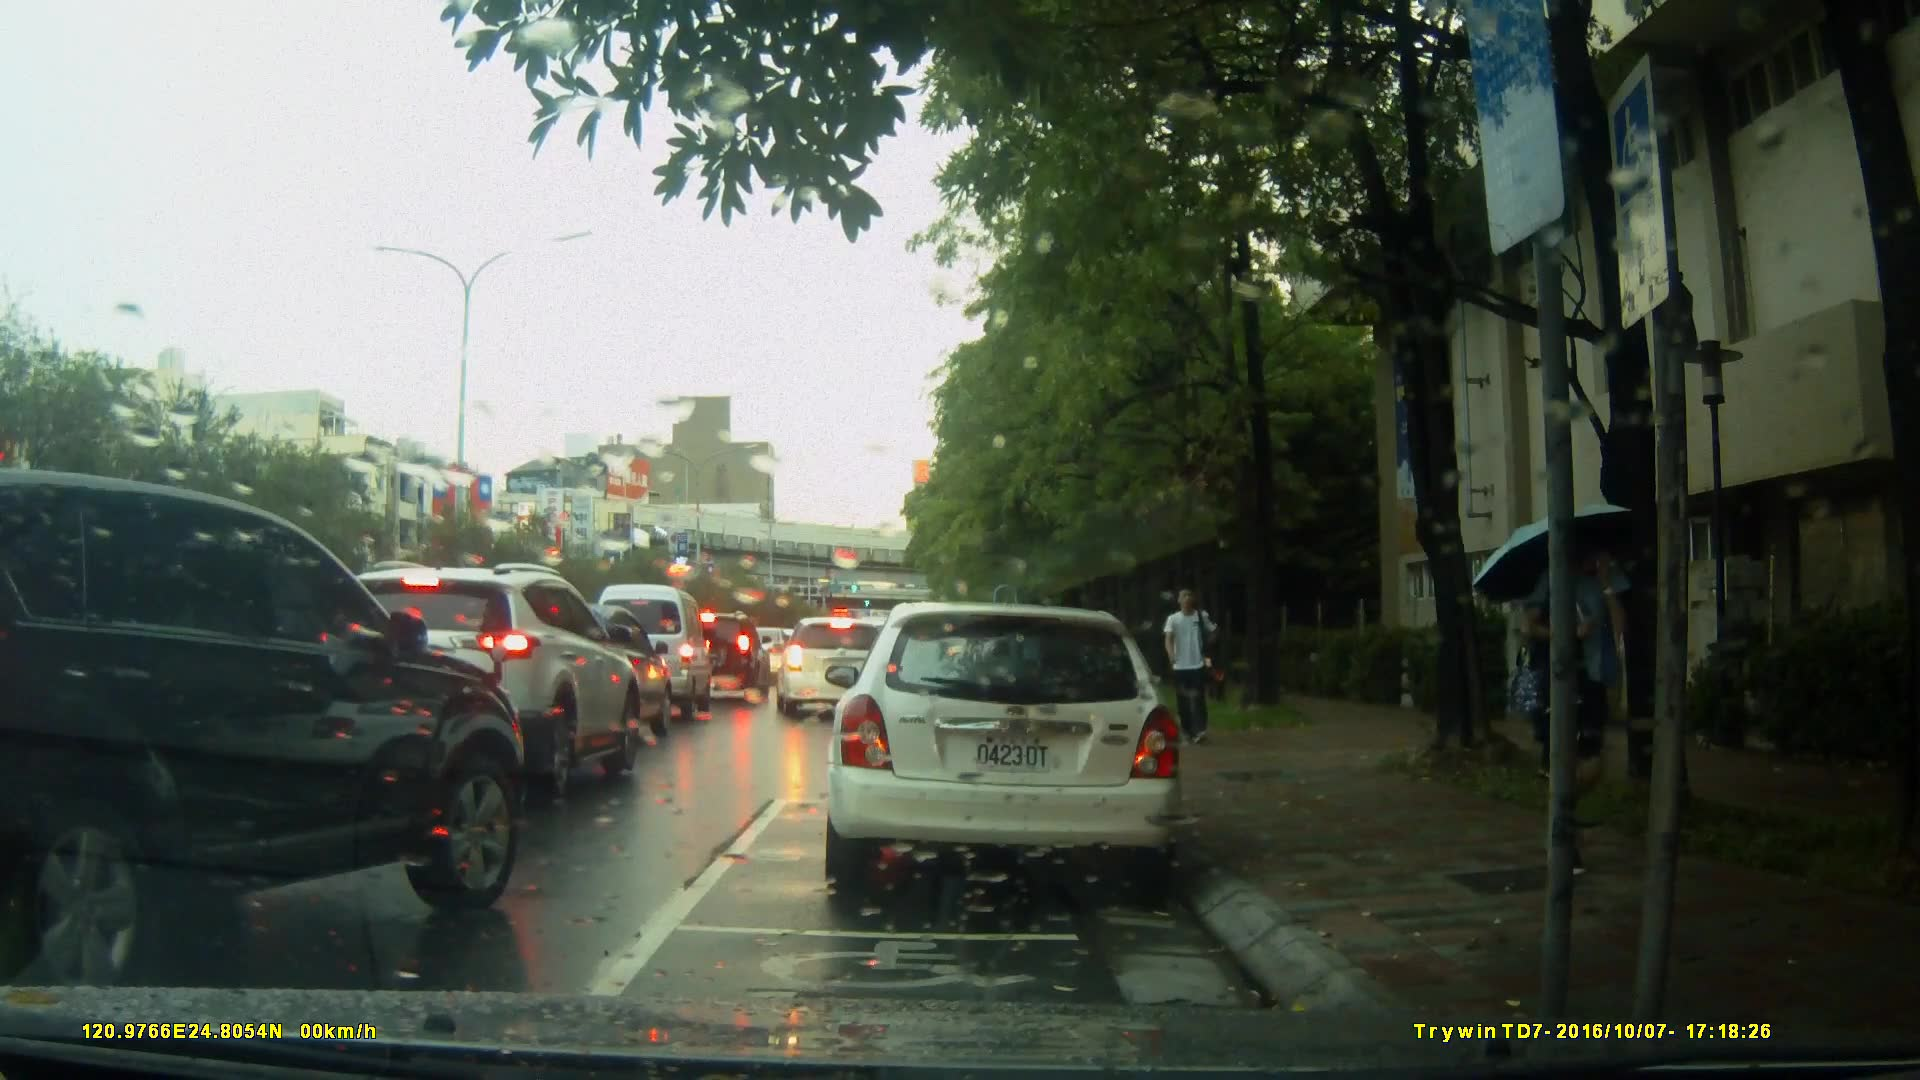pedestrian: (1490, 498, 1662, 917), (1157, 576, 1228, 752)
vehicle: (1, 465, 530, 987), (820, 602, 1188, 898), (310, 560, 647, 795), (496, 603, 678, 744), (585, 583, 713, 726), (773, 616, 904, 720), (676, 611, 770, 701)
